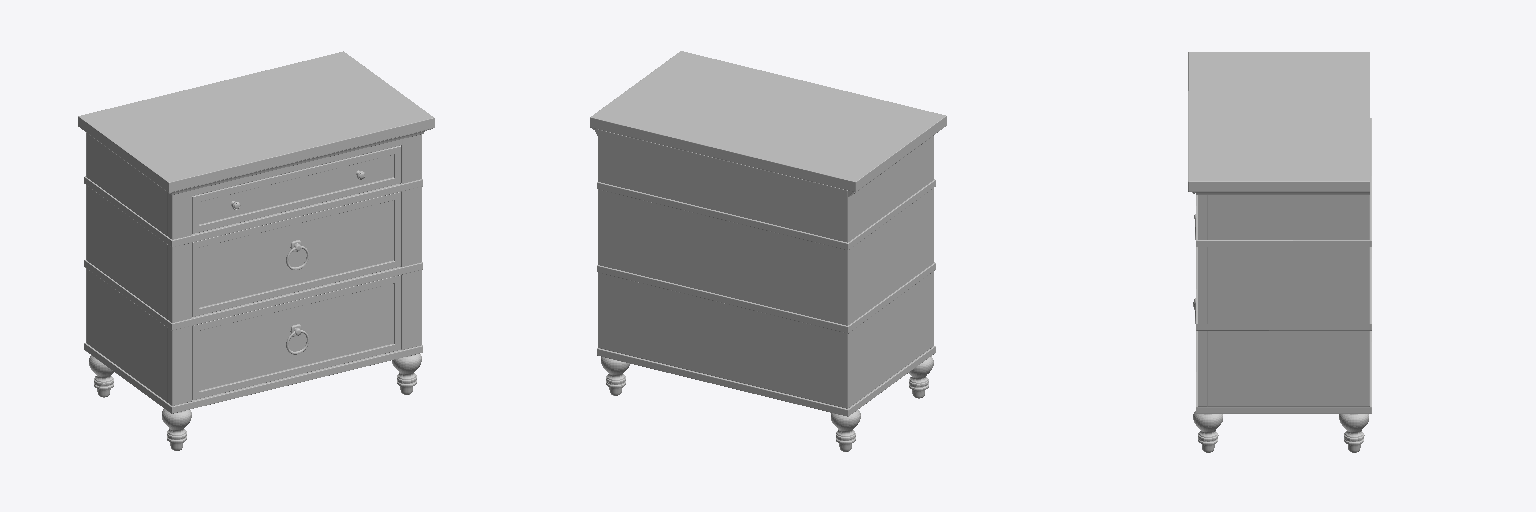
File: Locker 2.obj
3 renders of one model, left to right at view 1: azimuth 30°, elevation 25°; view 2: azimuth 150°, elevation 25°; view 3: azimuth 270°, elevation 25°, orthographic.
Parts seen in each view (by area): view 1: Rectangle008, Box048, Box047, Box034, Box031, Box029, Box037, Object003, Object002, Object001, Box043, Line007 (+3 smaller); view 2: Box048, Rectangle008, Object003, Object002, Object001, Box029, Line008, Line010, Line007; view 3: Box048, Rectangle008, Box037, Object001, Object002, Object003, Line009, Line010.
Boxes of the visible parts, x1=… form: Rectangle008: x1=78, y1=51, x2=434, y2=194; Box048: x1=86, y1=133, x2=167, y2=402; Box047: x1=192, y1=192, x2=400, y2=316; Box034: x1=192, y1=275, x2=400, y2=399; Box031: x1=192, y1=145, x2=400, y2=233; Box029: x1=168, y1=190, x2=191, y2=405; Box037: x1=401, y1=134, x2=421, y2=349; Object003: x1=84, y1=343, x2=422, y2=413; Object002: x1=84, y1=260, x2=422, y2=330; Object001: x1=84, y1=176, x2=422, y2=246; Box043: x1=192, y1=139, x2=401, y2=195; Line007: x1=162, y1=409, x2=191, y2=450; Box048: x1=598, y1=130, x2=928, y2=408; Rectangle008: x1=590, y1=51, x2=946, y2=196; Object003: x1=597, y1=346, x2=935, y2=416; Object002: x1=597, y1=262, x2=935, y2=333; Object001: x1=597, y1=179, x2=935, y2=249; Box029: x1=929, y1=136, x2=933, y2=348; Line008: x1=831, y1=410, x2=860, y2=451; Line010: x1=601, y1=357, x2=629, y2=395; Line007: x1=909, y1=356, x2=933, y2=398; Box048: x1=1207, y1=195, x2=1369, y2=406; Rectangle008: x1=1188, y1=52, x2=1369, y2=194; Box037: x1=1198, y1=195, x2=1206, y2=406; Object001: x1=1196, y1=118, x2=1371, y2=246; Object002: x1=1196, y1=247, x2=1371, y2=330; Object003: x1=1196, y1=331, x2=1371, y2=413; Line009: x1=1193, y1=411, x2=1222, y2=452; Line010: x1=1339, y1=414, x2=1368, y2=452.
Size of the model in its own units: 8103 by 8106 by 4843.